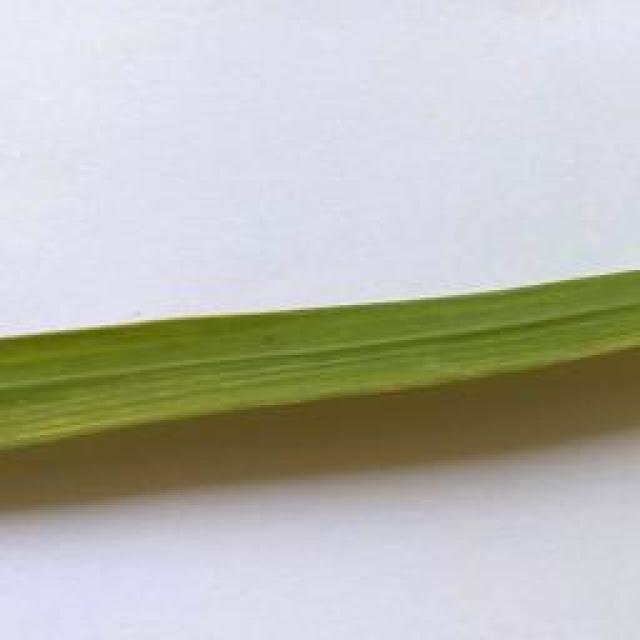Healthy-Plant: (0, 270, 640, 453)
